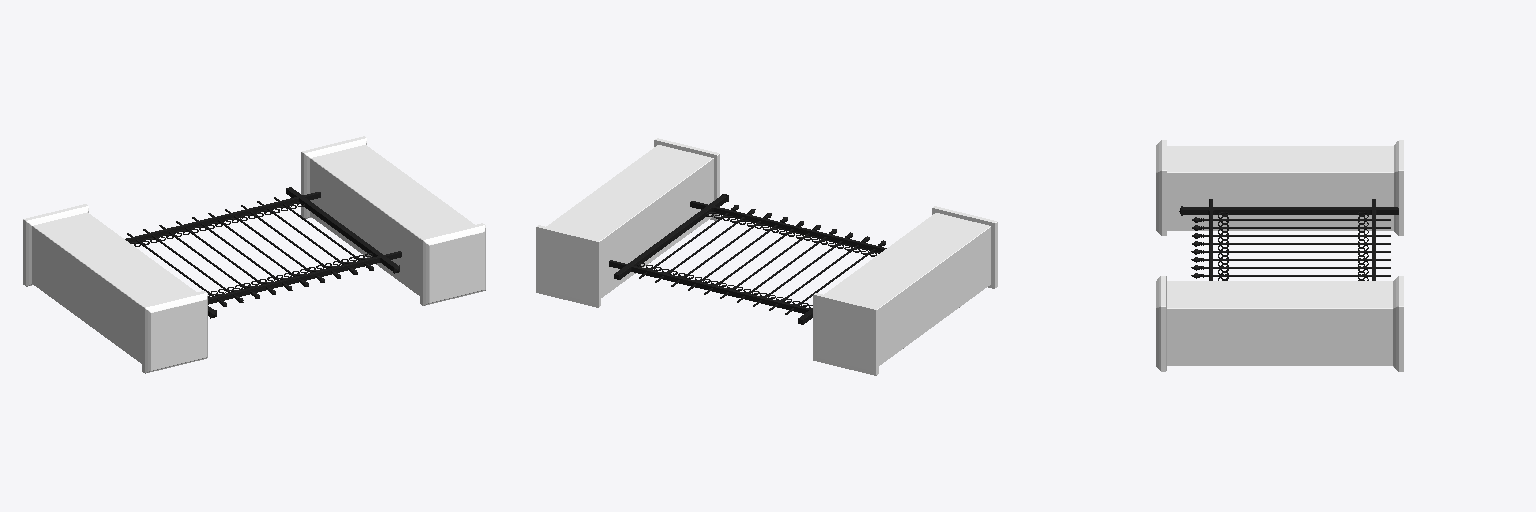
File: 13080_Wrought_Iron_fence_with_brick_v1_L2.obj
3 views of the same model, side by side, from view 1: azimuth 30°, elevation 25°; view 2: azimuth 150°, elevation 25°; view 3: azimuth 270°, elevation 25° (orthographic).
Parts seen in each view (by area): view 1: Wrought_Iron_fence_with_brick_5, Wrought_Iron_fence_with_brick_1, Wrought_Iron_fence_with_brick_8, Wrought_Iron_fence_with_brick_4, Wrought_Iron_fence_with_brick_6, Wrought_Iron_fence_with_brick_11, Wrought_Iron_fence_with_brick_3, Wrought_Iron_fence_with_brick_9, Wrought_Iron_fence_with_brick_2; view 2: Wrought_Iron_fence_with_brick_5, Wrought_Iron_fence_with_brick_1, Wrought_Iron_fence_with_brick_3, Wrought_Iron_fence_with_brick_2, Wrought_Iron_fence_with_brick_6, Wrought_Iron_fence_with_brick_11, Wrought_Iron_fence_with_brick_9, Wrought_Iron_fence_with_brick_8, Wrought_Iron_fence_with_brick_4; view 3: Wrought_Iron_fence_with_brick_1, Wrought_Iron_fence_with_brick_5, Wrought_Iron_fence_with_brick_11, Wrought_Iron_fence_with_brick_6, Wrought_Iron_fence_with_brick_4, Wrought_Iron_fence_with_brick_8, Wrought_Iron_fence_with_brick_2, Wrought_Iron_fence_with_brick_3, Wrought_Iron_fence_with_brick_9.
Boxes of the visible parts, x1,y1,x2,y2 form: Wrought_Iron_fence_with_brick_5: [32, 212, 196, 363]; Wrought_Iron_fence_with_brick_1: [310, 145, 474, 295]; Wrought_Iron_fence_with_brick_8: [142, 291, 207, 373]; Wrought_Iron_fence_with_brick_4: [420, 223, 485, 305]; Wrought_Iron_fence_with_brick_6: [125, 187, 401, 316]; Wrought_Iron_fence_with_brick_11: [127, 197, 365, 300]; Wrought_Iron_fence_with_brick_3: [23, 204, 88, 286]; Wrought_Iron_fence_with_brick_9: [130, 202, 372, 297]; Wrought_Iron_fence_with_brick_2: [301, 136, 366, 218]; Wrought_Iron_fence_with_brick_5: [824, 213, 990, 365]; Wrought_Iron_fence_with_brick_1: [546, 145, 713, 297]; Wrought_Iron_fence_with_brick_3: [813, 293, 878, 375]; Wrought_Iron_fence_with_brick_2: [536, 225, 600, 307]; Wrought_Iron_fence_with_brick_6: [609, 195, 886, 324]; Wrought_Iron_fence_with_brick_11: [639, 213, 879, 314]; Wrought_Iron_fence_with_brick_9: [637, 212, 879, 308]; Wrought_Iron_fence_with_brick_8: [932, 206, 997, 288]; Wrought_Iron_fence_with_brick_4: [654, 138, 719, 220]; Wrought_Iron_fence_with_brick_1: [1167, 281, 1392, 365]; Wrought_Iron_fence_with_brick_5: [1167, 146, 1393, 230]; Wrought_Iron_fence_with_brick_11: [1204, 219, 1390, 276]; Wrought_Iron_fence_with_brick_6: [1183, 199, 1398, 280]; Wrought_Iron_fence_with_brick_4: [1156, 276, 1166, 371]; Wrought_Iron_fence_with_brick_8: [1156, 140, 1166, 235]; Wrought_Iron_fence_with_brick_2: [1393, 276, 1403, 371]; Wrought_Iron_fence_with_brick_3: [1394, 140, 1403, 235]; Wrought_Iron_fence_with_brick_9: [1218, 212, 1368, 280].
Size of the model in its own units: 339 by 62.64 by 214.